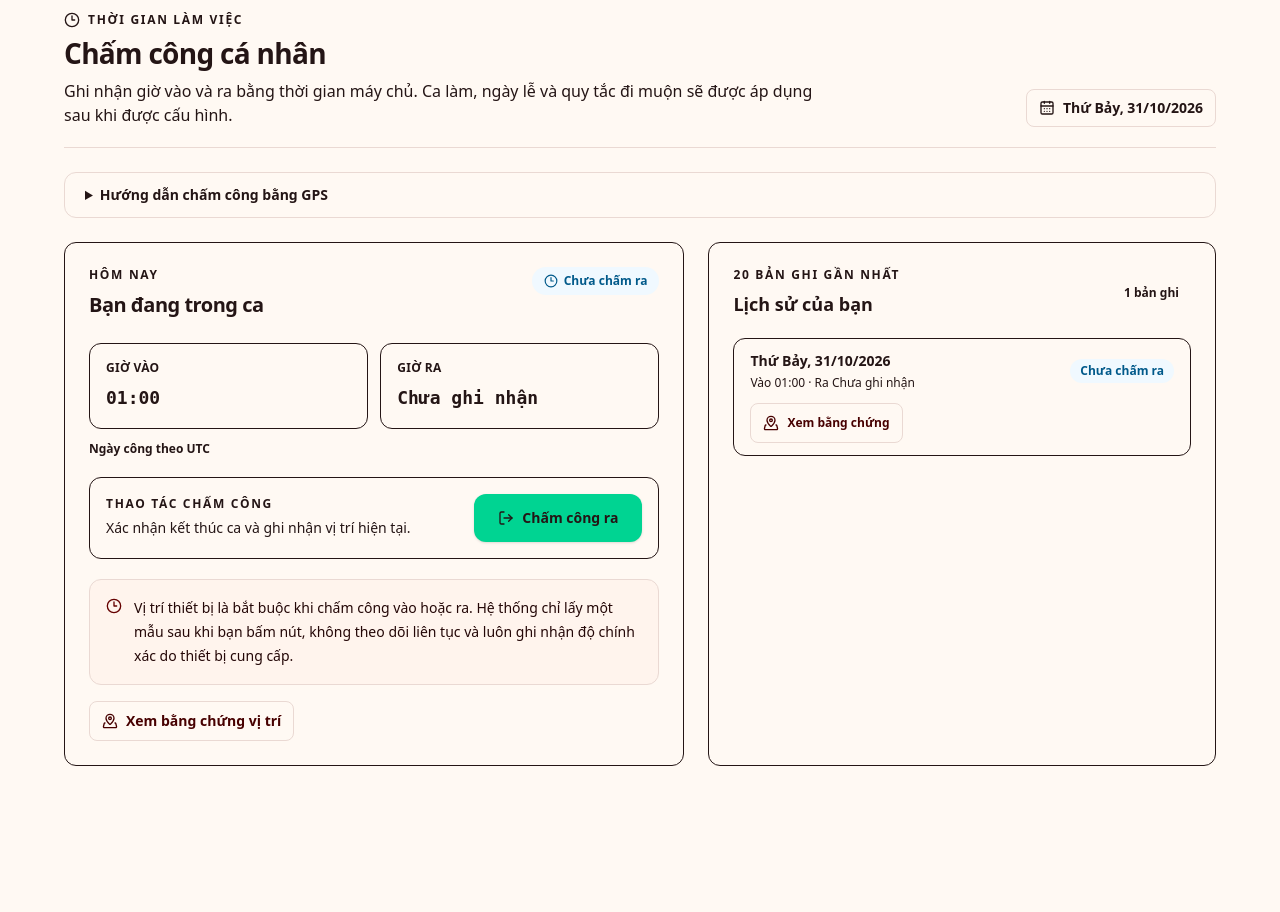
it: AttendanceWorkspace › sends a new foreground sample when the moderator checks out
The width and height of the screenshot is (1280, 912).
Click the button "Chấm công ra" at (558, 518), box top-left (474, 494), bottom-right (642, 542)
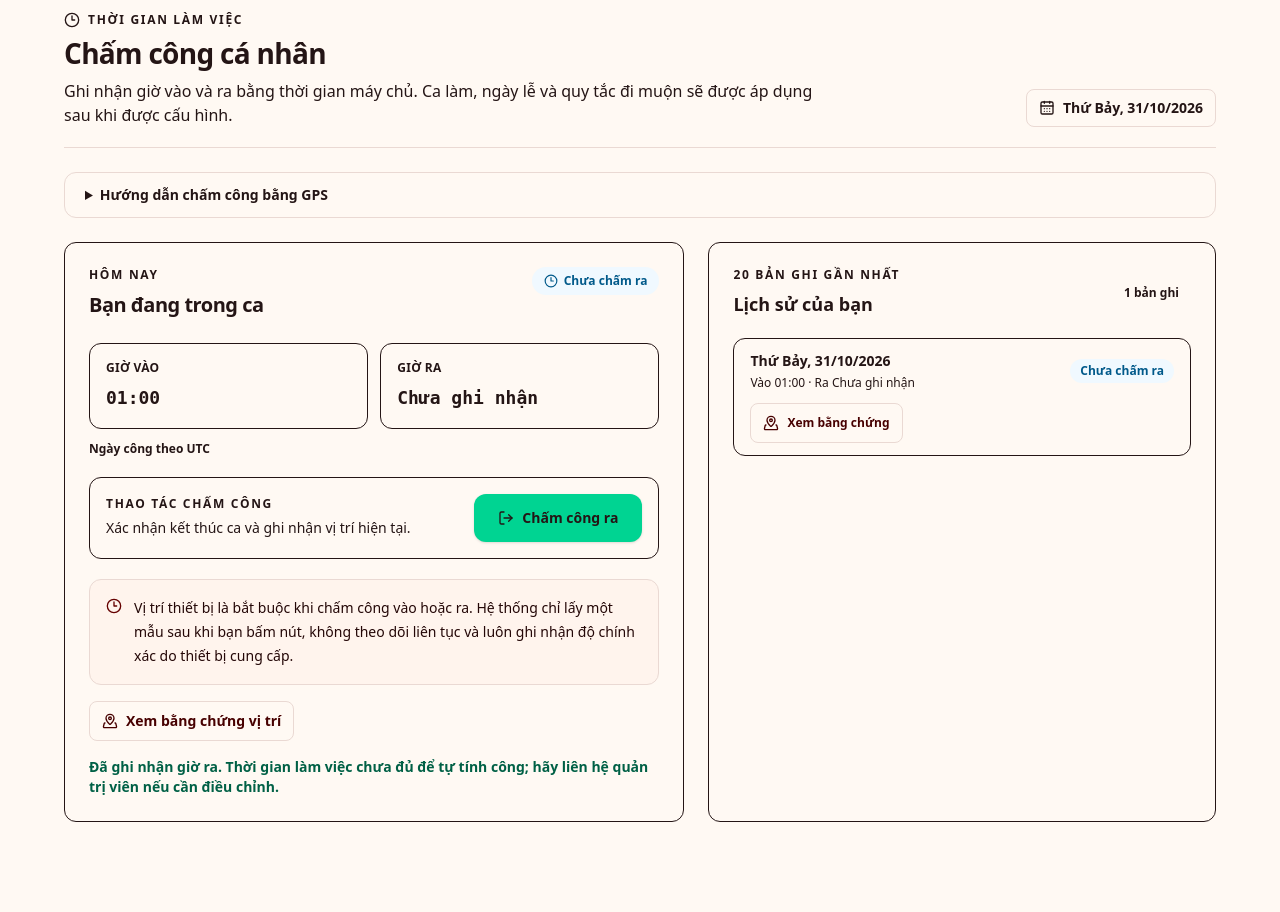
expect the text "Thời gian làm việc chưa đủ để tự tính công" is shown: met, box top-left (89, 757), bottom-right (648, 796)
